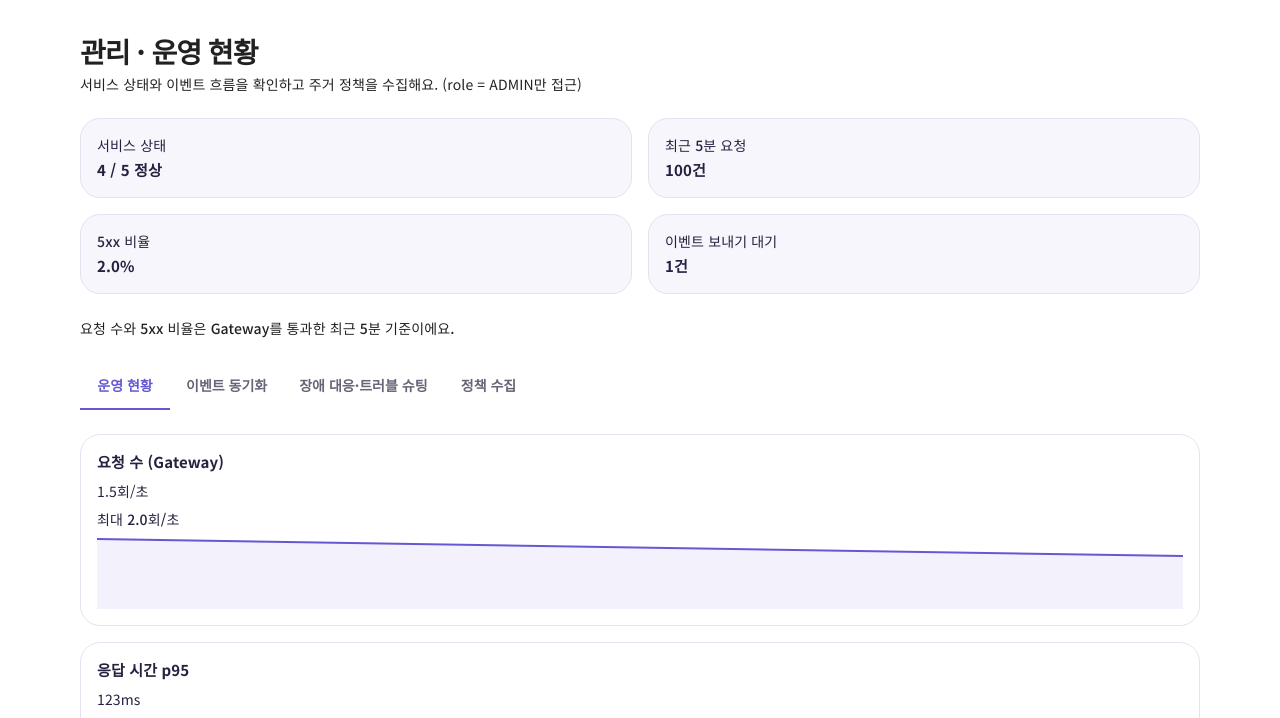
Test: 관리자 이벤트 동기화 흐름 › engagement 지표가 아직 없으면 지어내지 않고 측정 전으로 보여 준다
The width and height of the screenshot is (1280, 718).
Expected: the heading "관리 · 운영 현황" is shown, [80, 31, 257, 71]
Step 1. Click the tab "이벤트 동기화" → click(227, 386), box [170, 362, 283, 410]
(page scrolled)
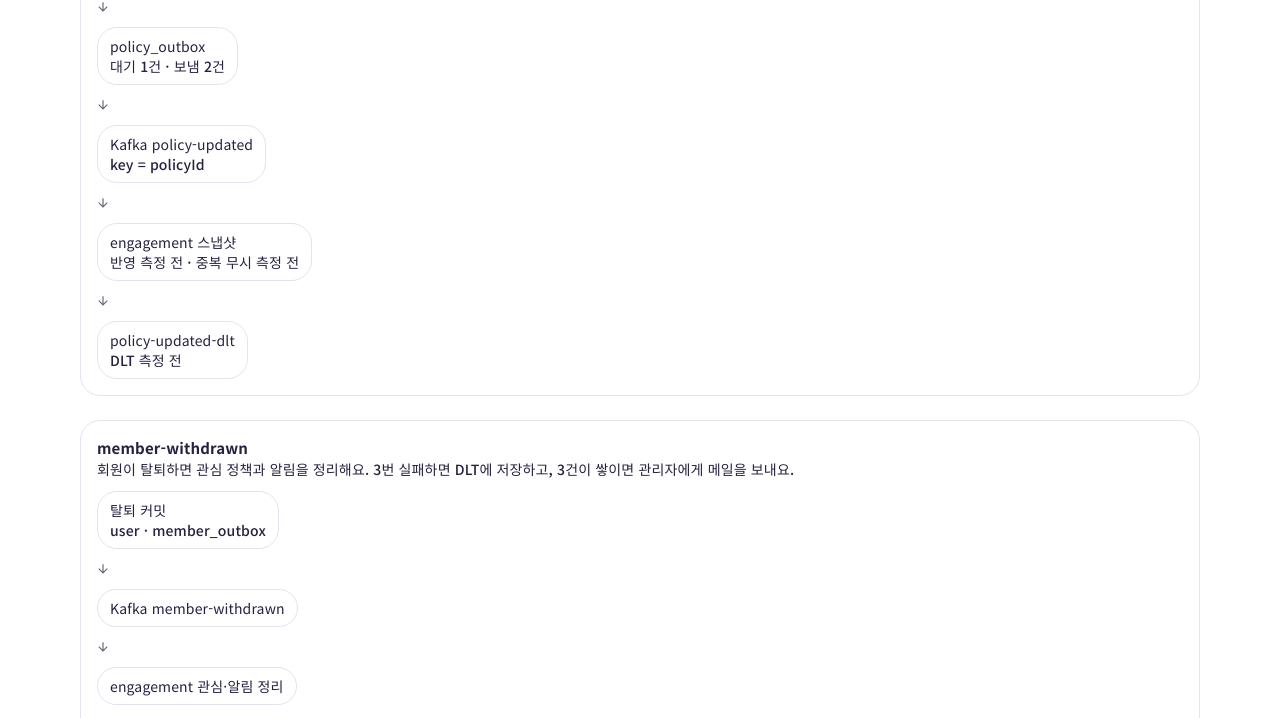
Result: the text "반영 측정 전 · 중복 무시 측정 전" is shown at [110, 252, 299, 272]
Result: the text "DLT 측정 전" is shown at [110, 350, 182, 370]
